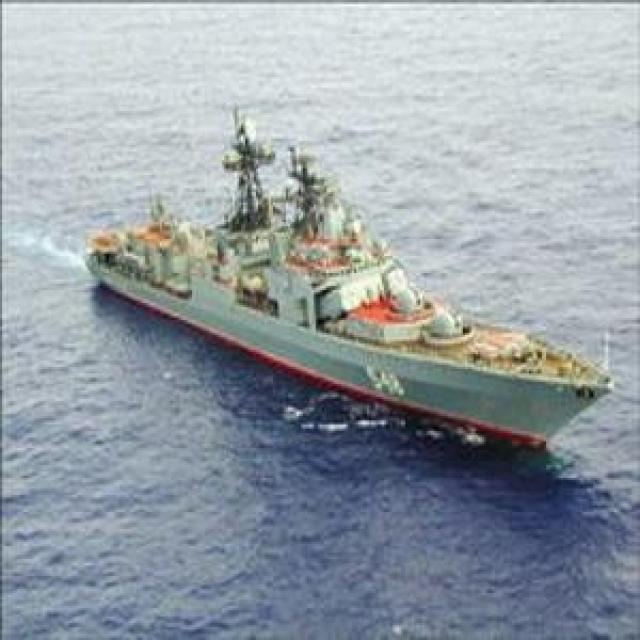navalvessels: (88, 107, 604, 461)
